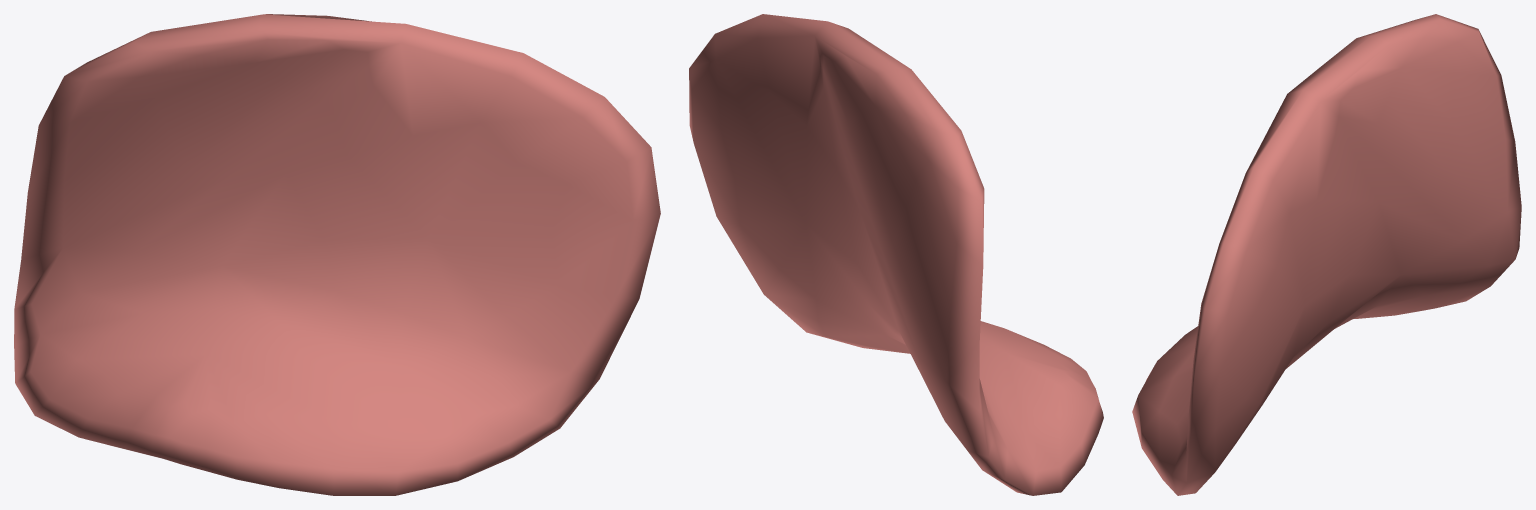
3 views of the same model, side by side, from view 1: azimuth 30°, elevation 25°; view 2: azimuth 150°, elevation 25°; view 3: azimuth 270°, elevation 25° (orthographic). The views are drawn at different scales.
Parts seen in each view (by area): view 1: ZA_3de28fb09099b171; view 2: ZA_3de28fb09099b171; view 3: ZA_3de28fb09099b171.
Part boxes in pixels (x1=…): ZA_3de28fb09099b171: x1=14, y1=14, x2=660, y2=495; ZA_3de28fb09099b171: x1=689, y1=14, x2=1103, y2=495; ZA_3de28fb09099b171: x1=1132, y1=14, x2=1521, y2=495.
Bounding box in the file's own units: 0.00613 × 0.00459 × 0.00426.
